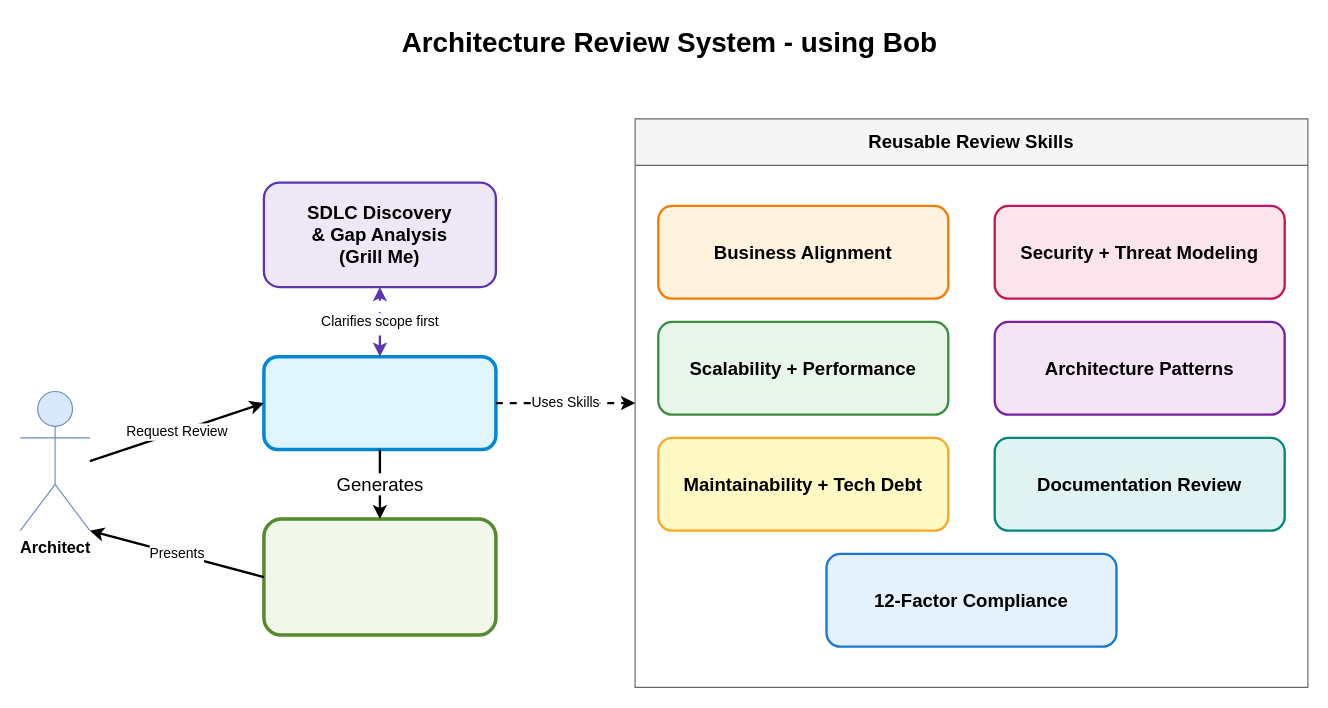
This 1328x708 diagram has some shape labels left out. The shapes that lost their labels are listed below. From the top down, each one's centre as x and y in pixels, then its label:
At pixel 379 402: "Architecture Review Mode (Orchestrator)".
At pixel 379 576: "Structured Review Report".
